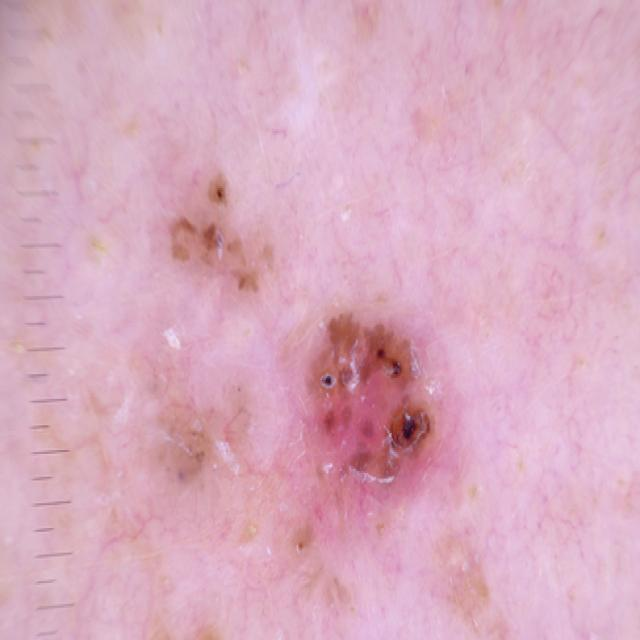Carcinoma: (141, 108, 490, 640)
